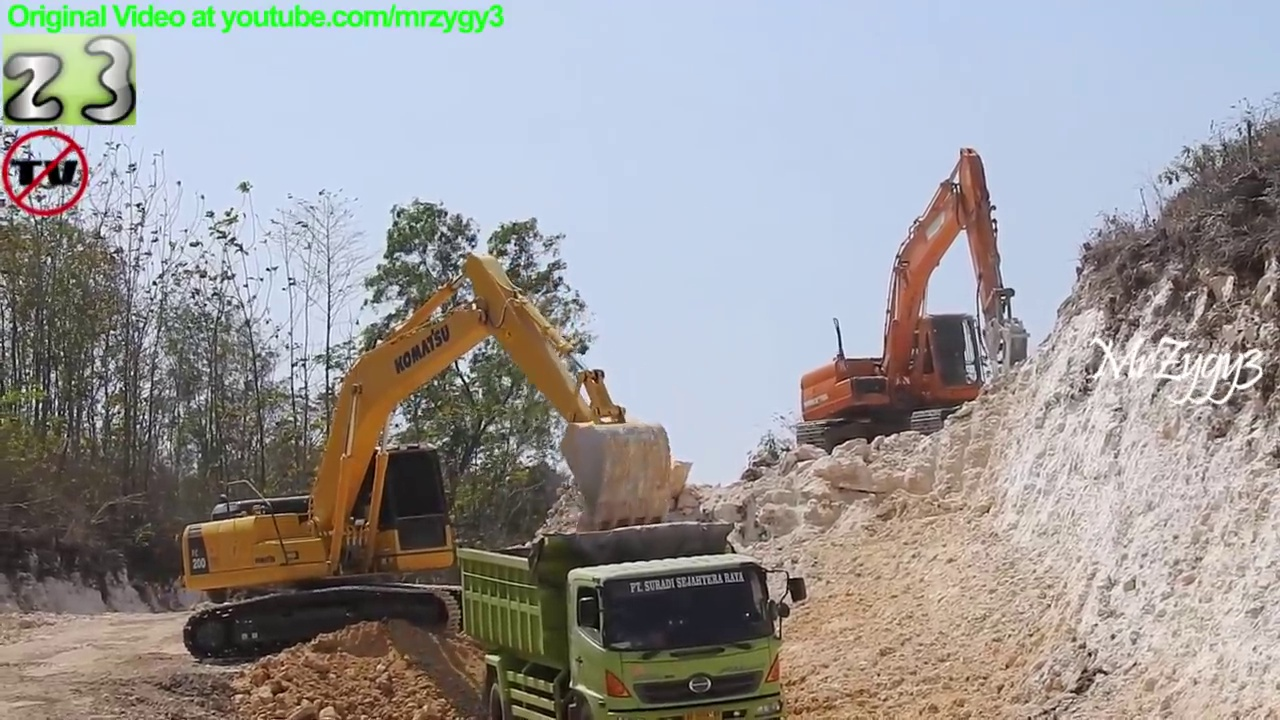excavator: (177, 248, 688, 669), (795, 143, 1037, 461)
truck: (454, 517, 813, 720)
